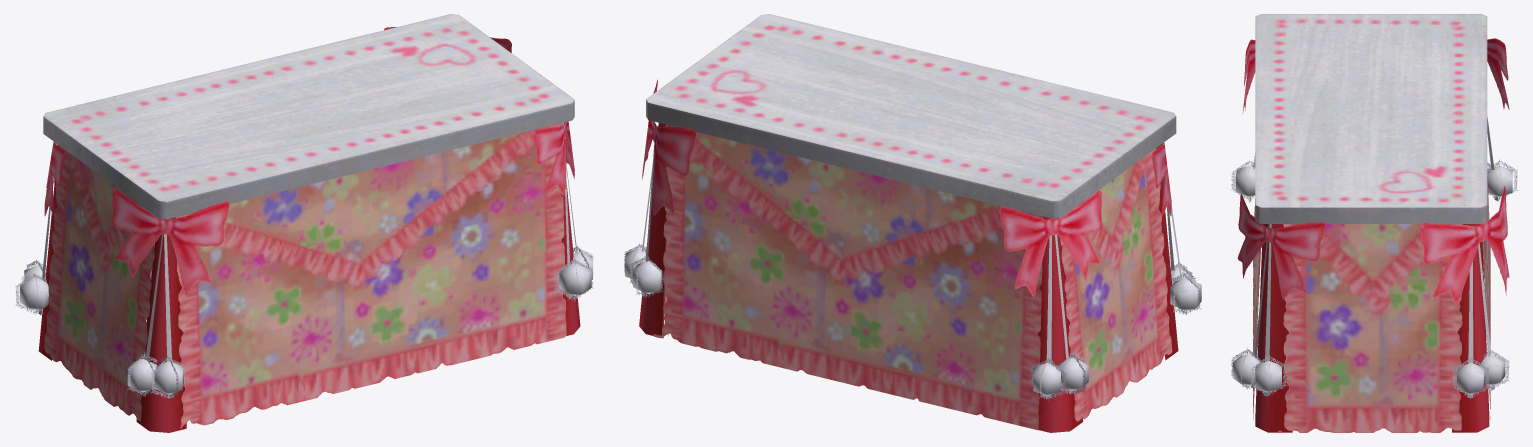
Rendered from furni_0200011.FBX.
3 views of the same model, side by side, from view 1: azimuth 30°, elevation 25°; view 2: azimuth 150°, elevation 25°; view 3: azimuth 270°, elevation 25° (orthographic). The views are drawn at different scales.
Visible parts, largest first — view 1: furni_0200011; view 2: furni_0200011; view 3: furni_0200011.
Part boxes in pixels (left/top/right/bottom): furni_0200011: left=14, top=14, right=593, bottom=432; furni_0200011: left=624, top=14, right=1201, bottom=432; furni_0200011: left=1231, top=14, right=1518, bottom=432.
Size of the model in its own units: 172 by 80.05 by 94.92.
